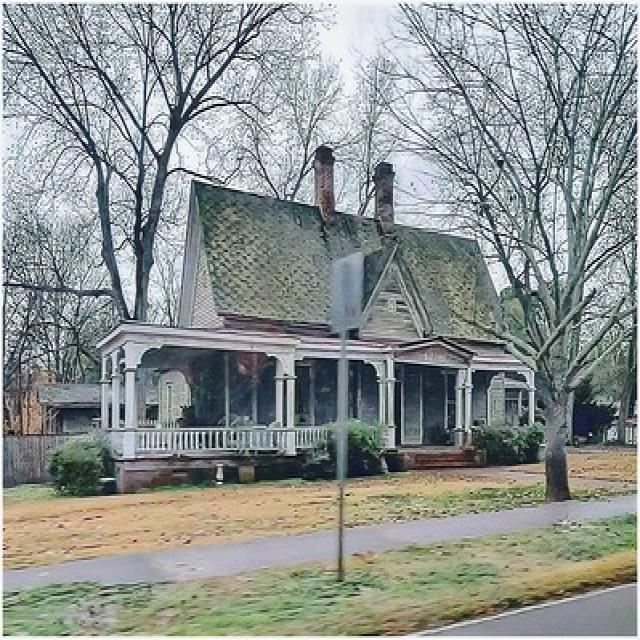Normal_building: (93, 142, 539, 490)
